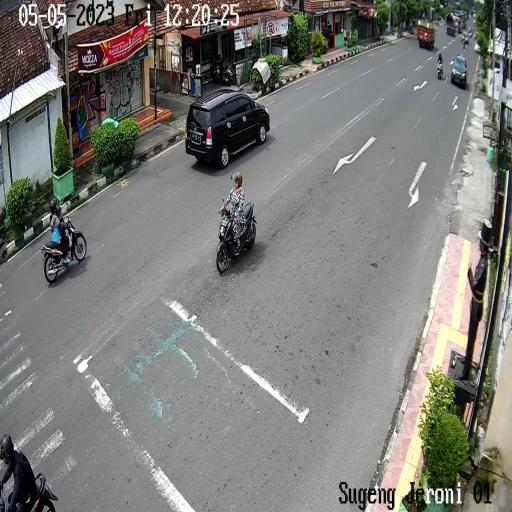mobil: (185, 90, 271, 168)
motor: (40, 212, 87, 286), (216, 194, 258, 276)
